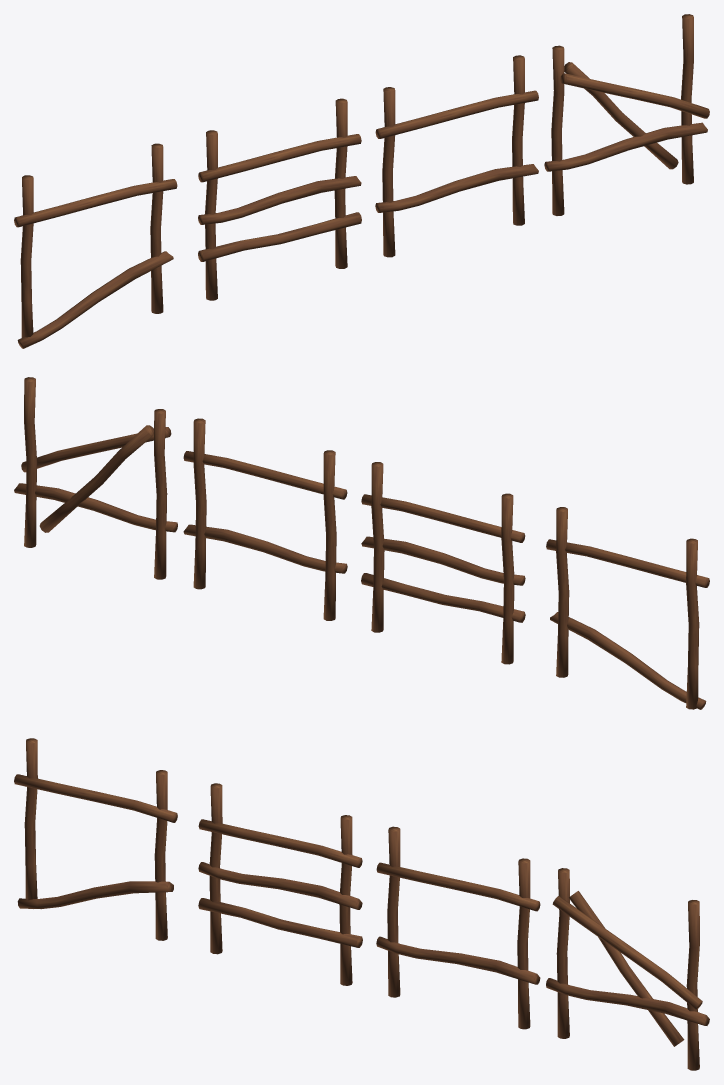
The model's file is SheerCerca.fbx.
The picture shows the model from 3 angles, top to bottom: view 1: azimuth 30°, elevation 25°; view 2: azimuth 150°, elevation 25°; view 3: azimuth 330°, elevation 25°; orthographic projection.
Parts seen in each view (by area): view 1: Wood_02.002, Wood_02.001, Wood_02, Wood_02.003, Wood_03, Wood_03.007, Wood_01.002, Wood_01.001, Wood_01, Wood_03.004, Wood_03.003, Wood_03.006 (+6 smaller); view 2: Wood_03.005, Wood_03.004, Wood_03.007, Wood_03.001, Wood_03.006, Wood_03.008, Wood_03.003, Wood_03.002, Wood_02.002, Wood_03.009, Wood_02.001, Wood_02 (+6 smaller); view 3: Wood_01.003, Wood_02.001, Wood_02, Wood_02.003, Wood_03, Wood_01.001, Wood_01, Wood_01.002, Wood_02.002, Wood_03.004, Wood_03.006, Wood_03.005 (+6 smaller).
Part boxes in pixels (box(x1,y1,x2,y2)): Wood_02.002: box(17, 251, 173, 348); Wood_02.001: box(375, 164, 538, 212); Wood_02: box(198, 176, 361, 224); Wood_02.003: box(544, 122, 707, 171); Wood_03: box(198, 212, 361, 261); Wood_03.007: box(551, 45, 564, 215); Wood_01.002: box(14, 179, 177, 227); Wood_01.001: box(375, 90, 538, 138); Wood_01: box(198, 134, 361, 182); Wood_03.004: box(382, 87, 395, 257); Wood_03.003: box(20, 175, 33, 337); Wood_03.006: box(150, 143, 163, 313); Wood_03.005: box(193, 418, 206, 589); Wood_03.004: box(323, 450, 336, 620); Wood_03.007: box(154, 409, 167, 579); Wood_03.001: box(501, 493, 514, 664); Wood_03.006: box(556, 507, 569, 677); Wood_03.008: box(24, 377, 37, 547); Wood_03.003: box(686, 538, 699, 709); Wood_03.002: box(371, 462, 384, 632); Wood_02.002: box(550, 612, 706, 709); Wood_03.009: box(39, 425, 153, 532); Wood_02.001: box(183, 524, 347, 573); Wood_02: box(361, 536, 525, 585); Wood_01.003: box(552, 896, 702, 1009); Wood_02.001: box(376, 936, 540, 984); Wood_02: box(198, 862, 362, 909); Wood_02.003: box(546, 978, 709, 1025); Wood_03: box(198, 898, 362, 947); Wood_01.001: box(376, 862, 540, 911); Wood_01: box(198, 819, 362, 867); Wood_01.002: box(14, 774, 177, 822); Wood_02.002: box(17, 881, 173, 909); Wood_03.004: box(387, 826, 400, 997); Wood_03.006: box(154, 770, 167, 940); Wood_03.005: box(517, 858, 530, 1029).
Size of the model in its own units: 343 by 10.71 by 79.86.
